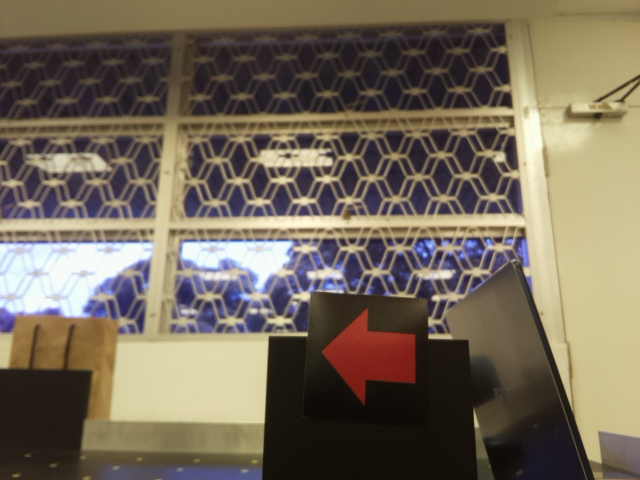left: (320, 300, 423, 410)
